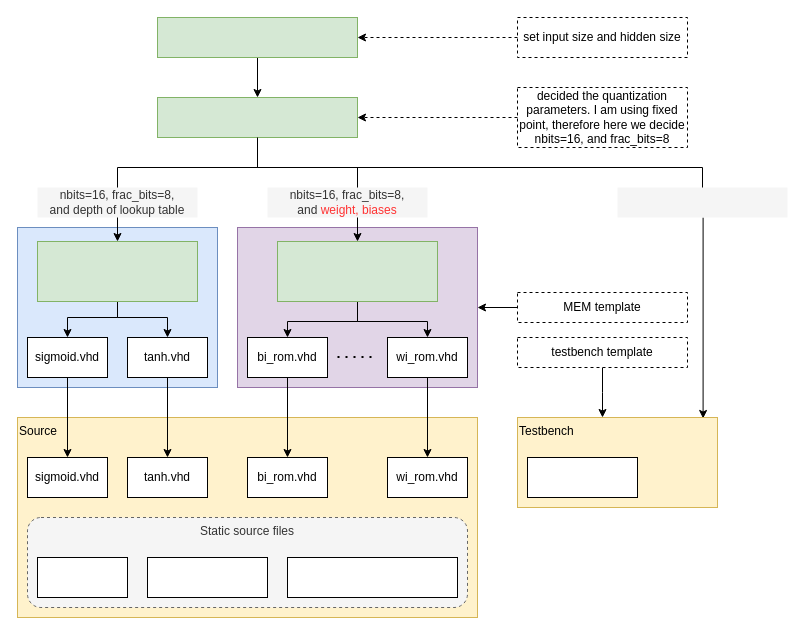
This 805x635 diagram has some shape labels left out. The box of each missing label's shape, as (x1, y1, x2, y2) in pixels:
activation function generation: (36, 240, 198, 302)
dual_port_2_clock_ram.vhd: (286, 556, 458, 598)
lstm_cell.vhd: (36, 556, 128, 598)
lstm_cell_tb.vhd: (526, 456, 638, 498)
lstm_common.vhd: (146, 556, 268, 598)
model definition and training: (156, 16, 358, 58)
nbits=16, frac_bits=8, and test data, reference result: (617, 187, 787, 217)
Porting and generating weights and biases as memory component: (276, 240, 438, 302)
Quantization after training(PTQ): (156, 96, 358, 138)
